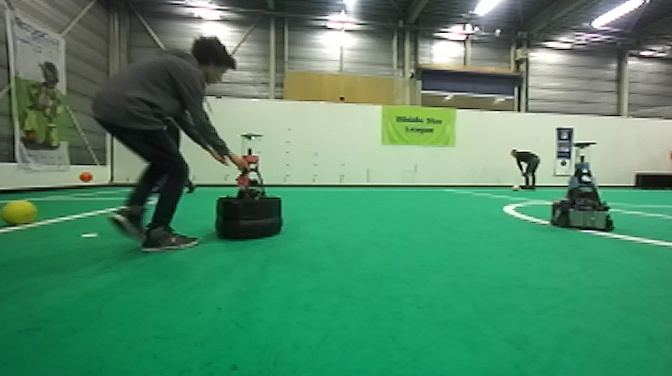ball: (1, 195, 41, 230), (77, 169, 94, 185), (510, 183, 522, 193)
human: (86, 31, 252, 256), (509, 147, 541, 193)
robot: (213, 127, 286, 242), (545, 138, 617, 234)
